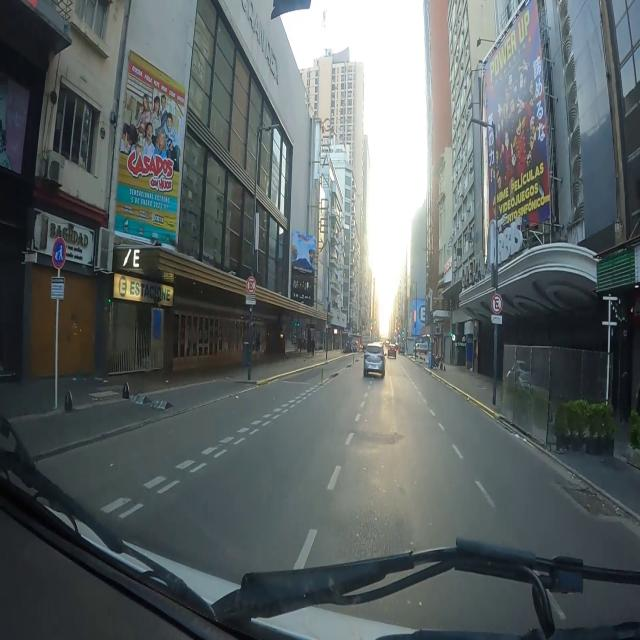car: (364, 342, 385, 378), (388, 343, 397, 358)
